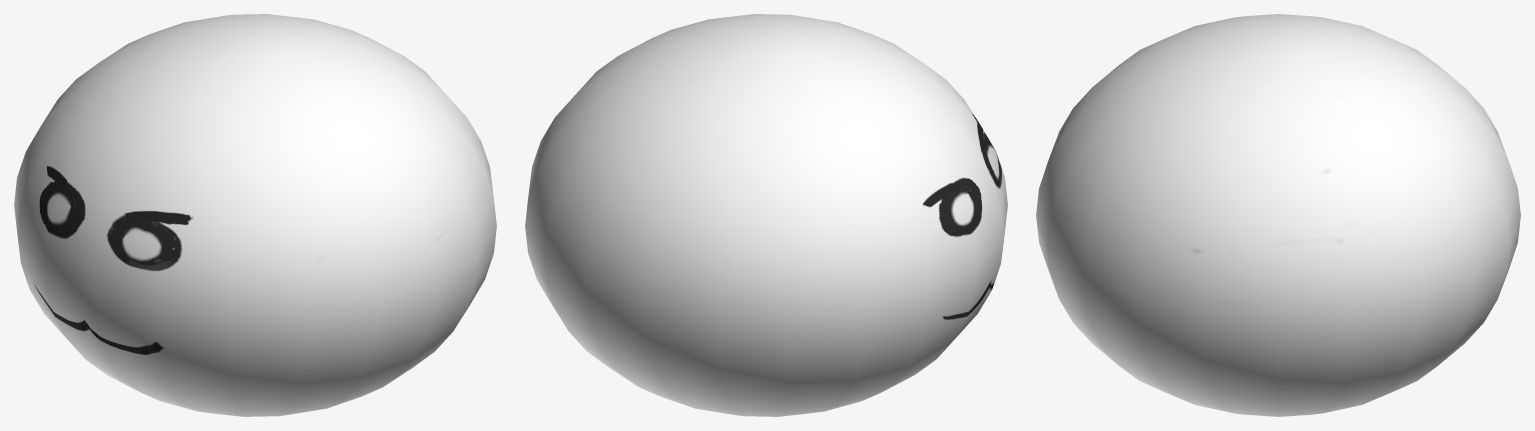
File: Player.fbx
3 renders of one model, left to right at view 1: azimuth 30°, elevation 25°; view 2: azimuth 150°, elevation 25°; view 3: azimuth 270°, elevation 25°, orthographic.
Parts seen in each view (by area): view 1: pSphere1; view 2: pSphere1; view 3: pSphere1.
Boxes of the visible parts, x1,y1,x2,y2 form: pSphere1: [14, 14, 496, 416]; pSphere1: [525, 14, 1007, 416]; pSphere1: [1036, 14, 1520, 416].
Size of the model in its own units: 2.73 by 2.16 by 2.73.
Materials: 1 (1 with a texture image).
